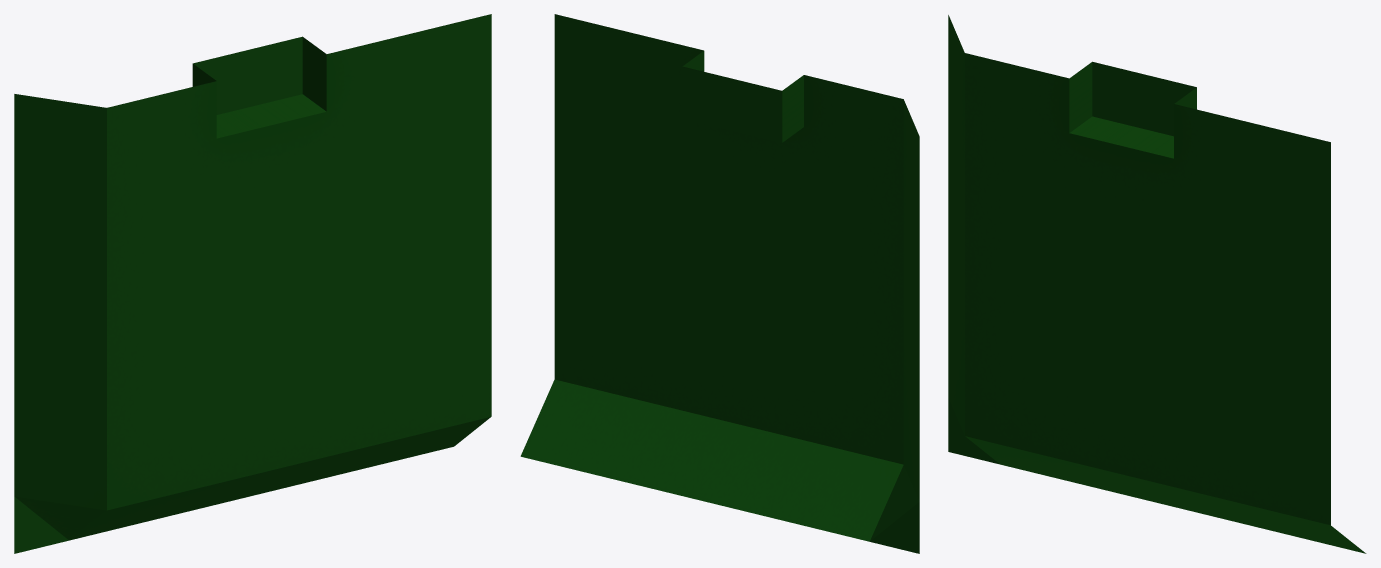
Rendered from loca.fbx.
3 renders of one model, left to right at view 1: azimuth 30°, elevation 25°; view 2: azimuth 150°, elevation 25°; view 3: azimuth 330°, elevation 25°, orthographic. The views are drawn at different scales.
Visible parts, largest first — view 1: Plane; view 2: Plane; view 3: Plane.
Part boxes in pixels (x1=…): Plane: x1=14, y1=14, x2=491, y2=553; Plane: x1=520, y1=14, x2=919, y2=553; Plane: x1=948, y1=15, x2=1366, y2=553.
Size of the model in its own units: 20.19 by 20.19 by 2.99.
